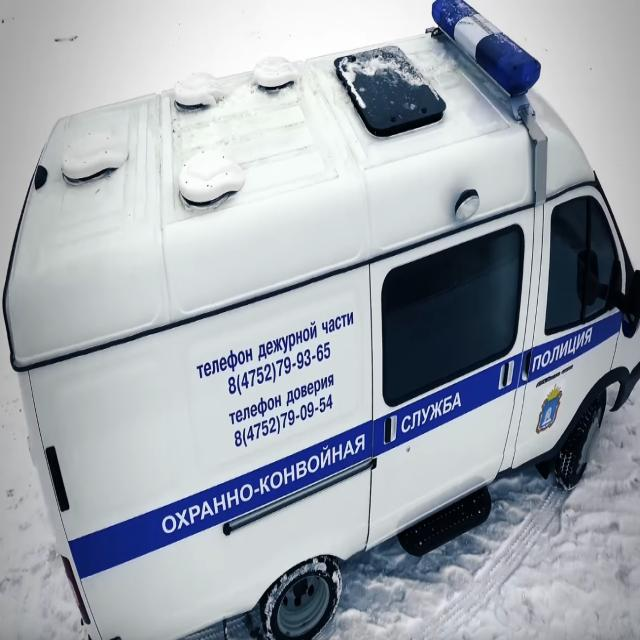police car: (1, 3, 640, 640)
